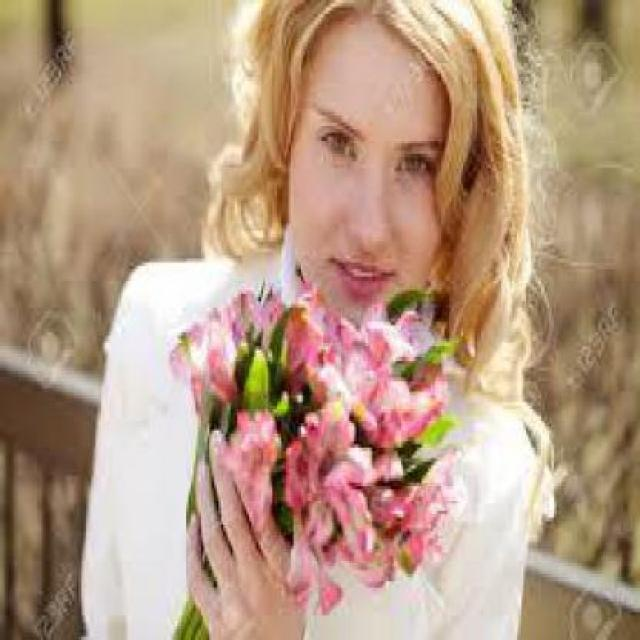flower: (310, 304, 424, 399), (168, 313, 249, 404), (329, 450, 383, 572), (231, 400, 283, 474)
